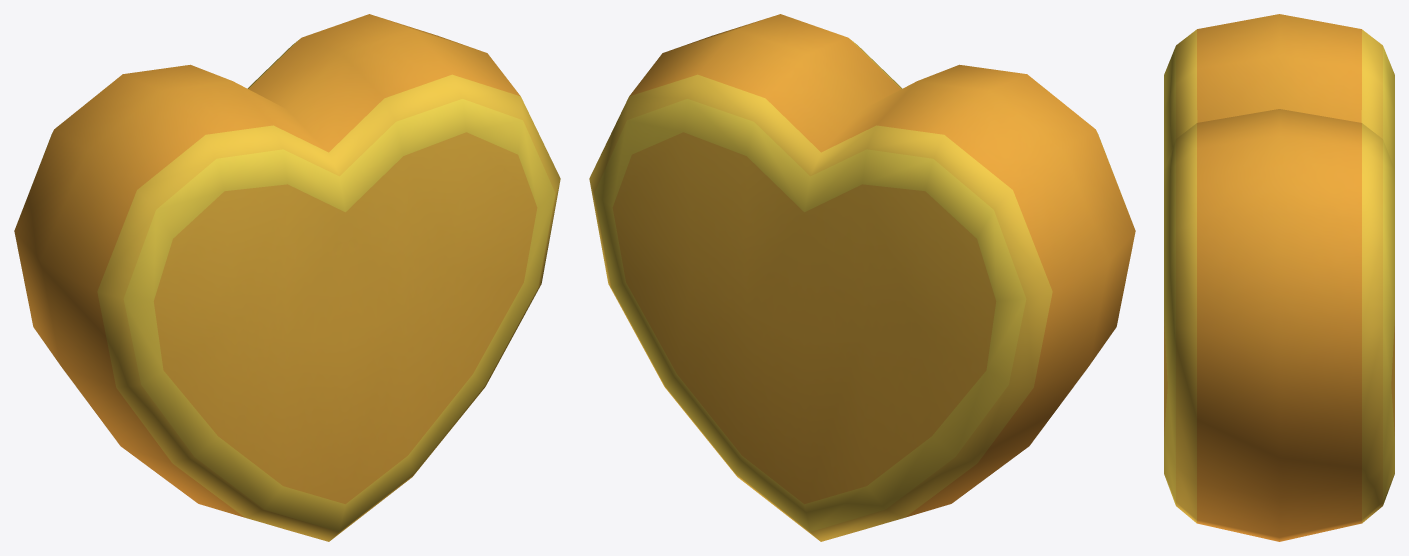
The model's file is powerup_heart_1_LOD1_cube_mat_0.glb.
The picture shows the model from 3 angles, left to right: view 1: azimuth 30°, elevation 25°; view 2: azimuth 150°, elevation 25°; view 3: azimuth 270°, elevation 25°; orthographic projection.
Visible parts, largest first — view 1: powerup_heart_1_LOD1_cube_mat_0; view 2: powerup_heart_1_LOD1_cube_mat_0; view 3: powerup_heart_1_LOD1_cube_mat_0.
Part boxes in pixels (<box>): powerup_heart_1_LOD1_cube_mat_0: <box>14,14,560,541</box>; powerup_heart_1_LOD1_cube_mat_0: <box>589,14,1135,541</box>; powerup_heart_1_LOD1_cube_mat_0: <box>1164,14,1394,541</box>.
Size of the model in its own units: 1.45 by 1.32 by 0.5893.
1 material, 1 textured.
